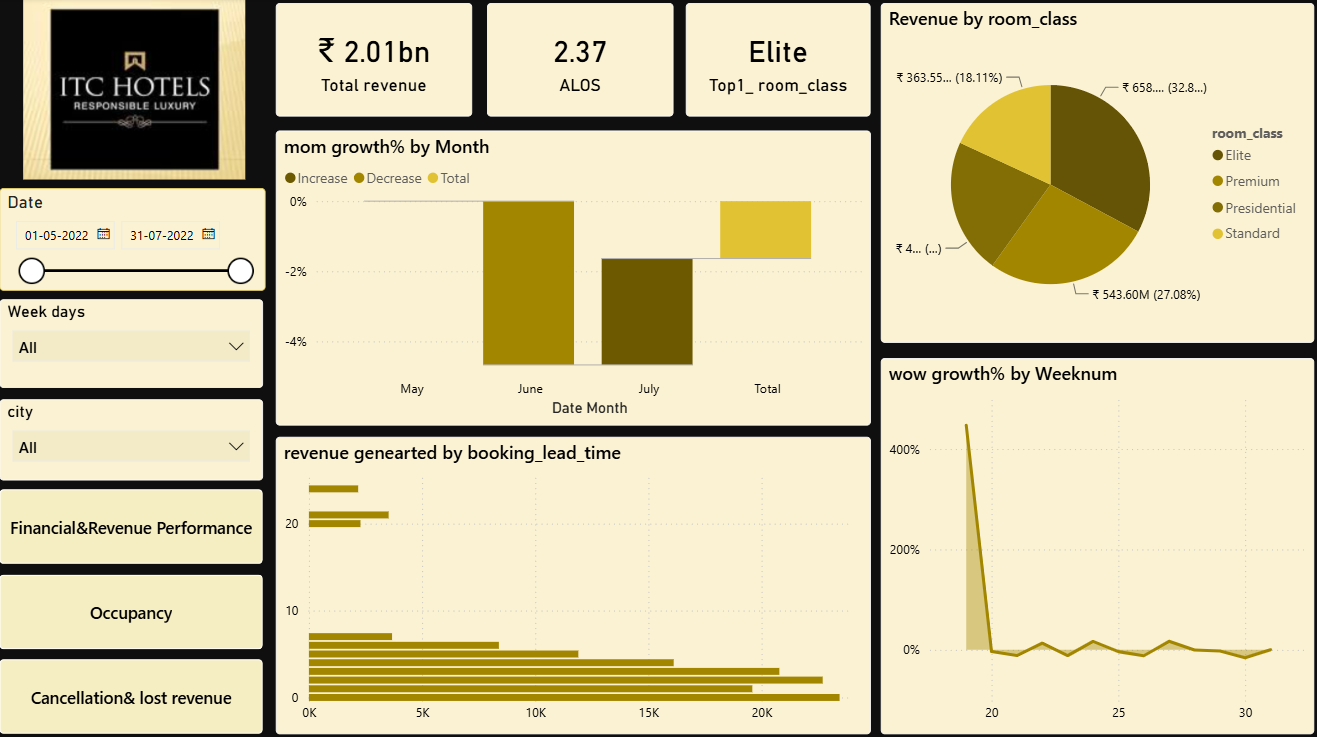

This screenshot's page, from the dashboard's own definition file:
{"tool":"powerbi","page":{"name":"Room category performance","canvas":[1280,720],"ordinal":2},"visuals":[{"type":"clusteredBarChart","title":"revenue genearted by booking_lead_time","fields":{"Category":["bookings.booking_lead_time"],"Y":["CountNonNull(bookings.booking_id)"]},"box":[269,423.5,574.3,287.1],"z":0},{"type":"pieChart","title":"Revenue by room_class","fields":{"Y":["z.Total revenue"],"Category":["rooms.room_class"]},"box":[853,4.8,418.6,328.2],"z":1000},{"type":"card","fields":{"Values":["z.ALOS"]},"box":[472.9,4.8,179.8,109.8],"z":2000},{"type":"waterfallChart","fields":{"Category":["Calendar.Date.Variation.Date Hierarchy.Month"],"Y":["z.mom growth%"]},"box":[269,127.9,574.3,284.7],"z":3000},{"type":"pageNavigator","box":[2.4,474.1,254.6,236.5],"z":4000},{"type":"image","box":[8.4,0,248.5,174.9],"z":5000},{"type":"card","fields":{"Values":["z.Total revenue"]},"box":[269,4.8,189.4,109.8],"z":6000},{"type":"card","fields":{"Values":["Min(rooms.room_class)"]},"box":[664.7,4.8,178.6,109.8],"z":7000},{"type":"stackedAreaChart","fields":{"Category":["Calendar.Weeknum"],"Y":["z.wow growth%"]},"box":[853,347.5,418.6,363.1],"z":8000},{"type":"slicer","title":"Date","fields":{"Values":["Calendar.Date"]},"box":[2.5,183.1,256.8,99.5],"z":9000},{"type":"slicer","title":"Week days","fields":{"Values":["Calendar.Weedays"]},"box":[2.4,290.8,254.6,85.7],"z":10000},{"type":"slicer","title":"city","fields":{"Values":["hotels.city"]},"box":[2.4,387.3,254.6,78.4],"z":11000}]}

Visuals, with their boxes in screenshot pixels (x1, y1, x2, y2), scaled from the page's 1280x720 canvas onto the 1317x737 screenshot:
"revenue genearted by booking_lead_time" clusteredBarChart: [277, 433, 868, 727]
"Revenue by room_class" pieChart: [878, 5, 1308, 341]
card - z.ALOS: [487, 5, 672, 117]
waterfallChart - Calendar.Date.Variation.Date Hierarchy.Month x z.mom growth%: [277, 131, 868, 422]
pageNavigator: [2, 485, 264, 727]
image: [9, 0, 264, 179]
card - z.Total revenue: [277, 5, 472, 117]
card - Min(rooms.room_class): [684, 5, 868, 117]
stackedAreaChart - Calendar.Weeknum x z.wow growth%: [878, 356, 1308, 727]
"Date" slicer: [3, 187, 267, 289]
"Week days" slicer: [2, 298, 264, 385]
"city" slicer: [2, 396, 264, 477]
